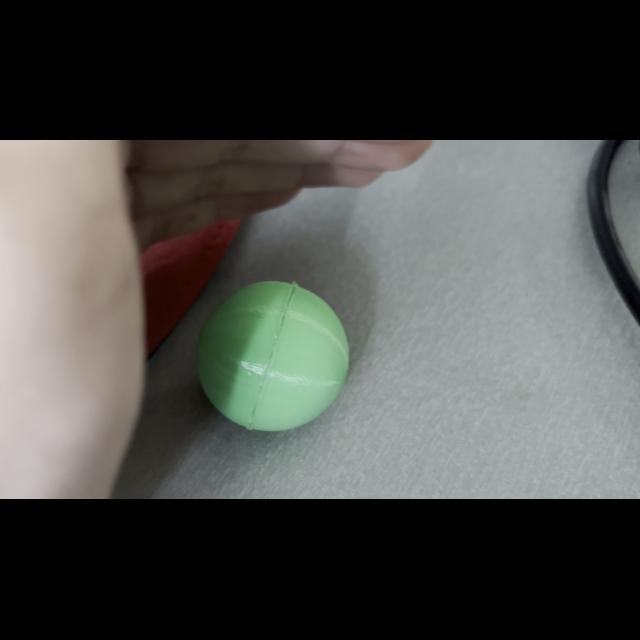objects: (190, 274, 356, 434)
